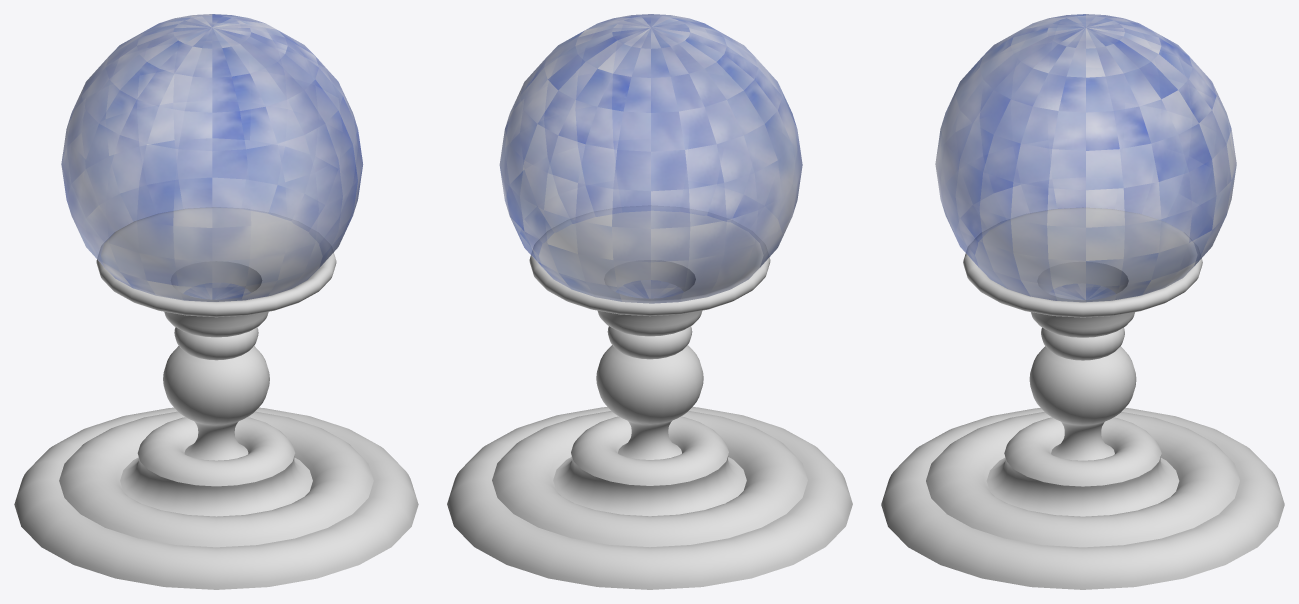
3 renders of one model, left to right at view 1: azimuth 30°, elevation 25°; view 2: azimuth 150°, elevation 25°; view 3: azimuth 270°, elevation 25°, orthographic.
Parts seen in each view (by area): view 1: Mesh1 Group1 ball1 Model, Mesh2 Group2 ball1 Model; view 2: Mesh1 Group1 ball1 Model, Mesh2 Group2 ball1 Model; view 3: Mesh1 Group1 ball1 Model, Mesh2 Group2 ball1 Model.
Part boxes in pixels (bbox=[...]): Mesh1 Group1 ball1 Model: bbox=[14, 207, 418, 589]; Mesh2 Group2 ball1 Model: bbox=[61, 14, 363, 301]; Mesh1 Group1 ball1 Model: bbox=[447, 205, 852, 589]; Mesh2 Group2 ball1 Model: bbox=[499, 14, 802, 303]; Mesh1 Group1 ball1 Model: bbox=[881, 207, 1284, 589]; Mesh2 Group2 ball1 Model: bbox=[935, 14, 1236, 302].
Bounding box in the file's own units: 14.28 × 18.57 × 14.28.
2 materials, 1 textured.
